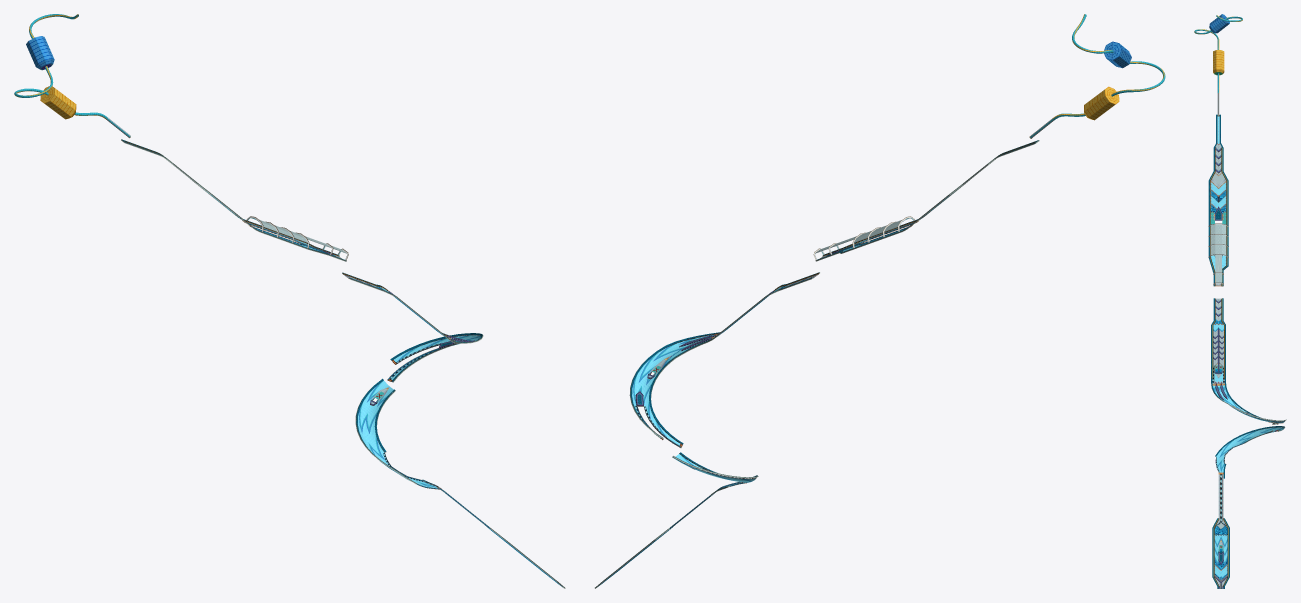
The model's file is 2P_Bingo_highway2.obj.
The picture shows the model from 3 angles, left to right: view 1: azimuth 30°, elevation 25°; view 2: azimuth 150°, elevation 25°; view 3: azimuth 270°, elevation 25°; orthographic projection. The views are drawn at different scales.
Visible parts, largest first — view 1: obj3; view 2: obj3; view 3: obj3, obj1.
Boxes of the visible parts, bbox=[...] form: obj3: bbox=[14, 14, 565, 588]; obj3: bbox=[595, 14, 1165, 588]; obj3: bbox=[1194, 14, 1286, 588]; obj1: bbox=[1208, 147, 1228, 586].
Size of the model in its own units: 6358 by 7557 by 1484.
